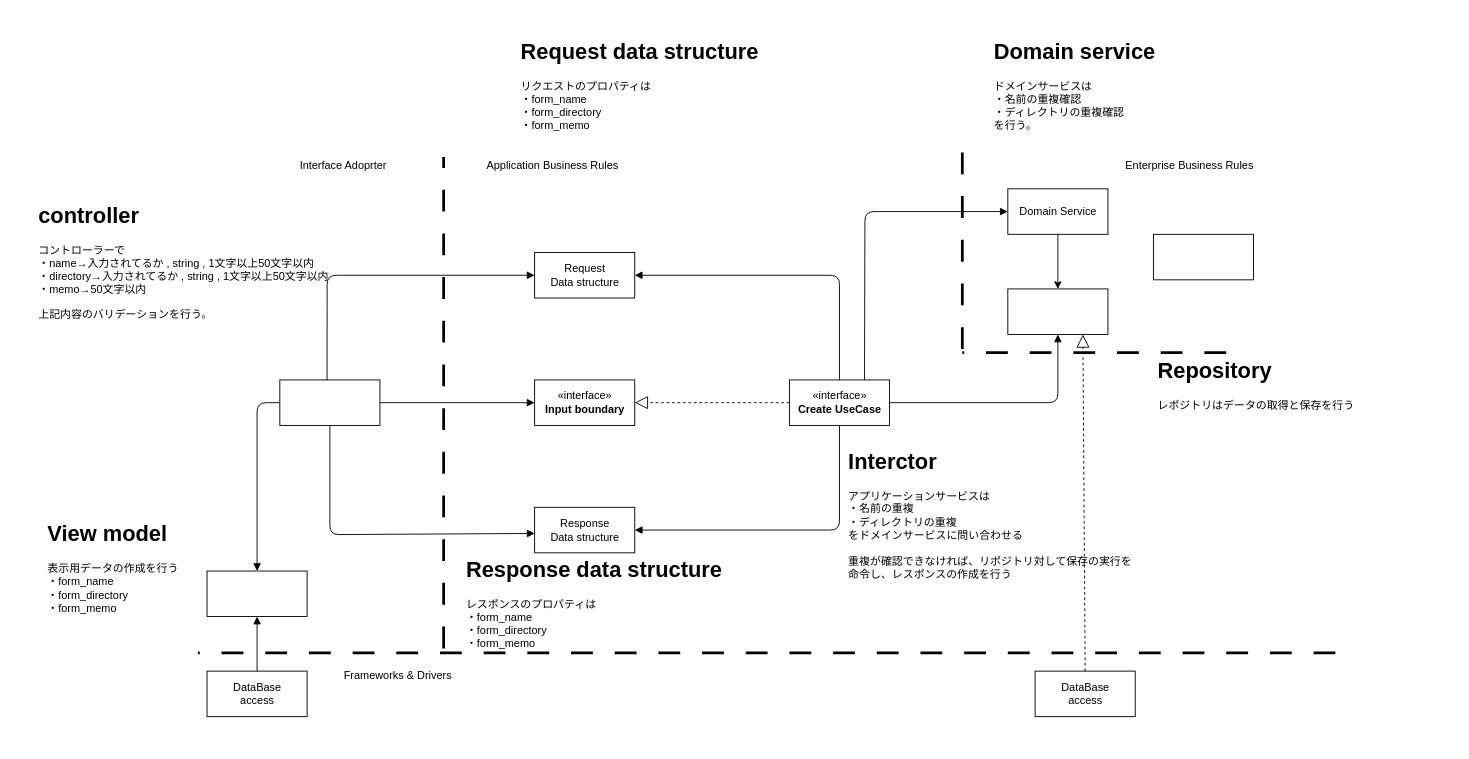
Some shapes in this 1469 by 759 pixel diagram are drawn without their labels. The shapes that lost their labels are listed below. From the top down, each one's centre as x and y in pixels, then its label:
At pixel 1203 256: "Entities".
At pixel 1057 311: "«interface» Repository".
At pixel 329 402: "Controller".
At pixel 256 593: "ViewModel Data structure".
